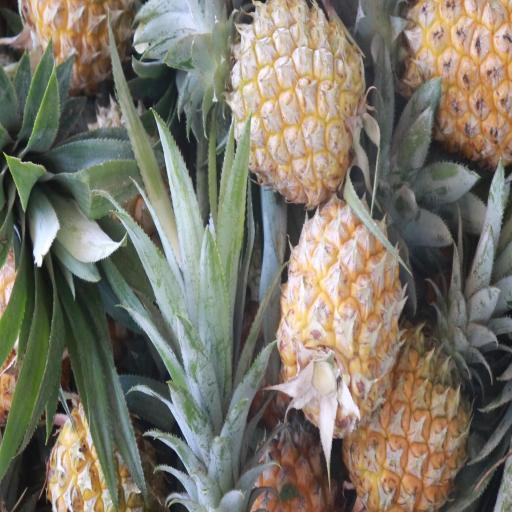------------------------------: (42, 394, 166, 512)
Pineapple - v8 v1: (280, 200, 398, 431), (228, 2, 363, 194), (348, 312, 464, 512), (393, 0, 512, 159)
